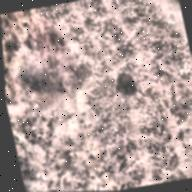boar: (112, 68, 141, 99)
